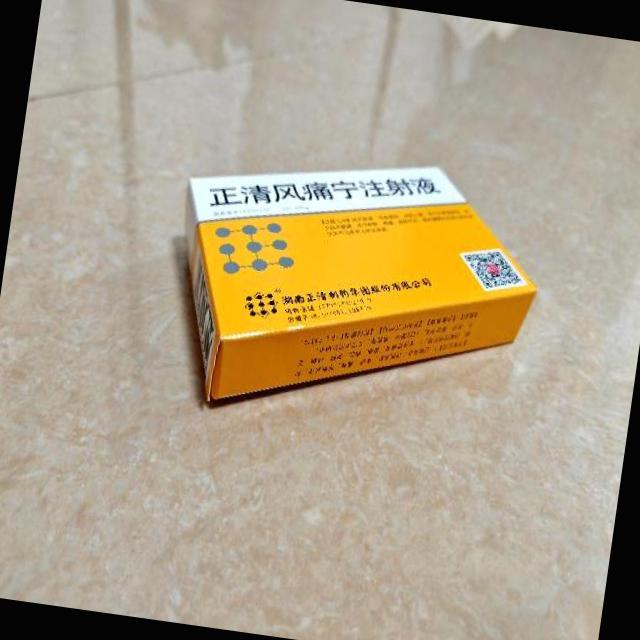box: (158, 132, 556, 444)
